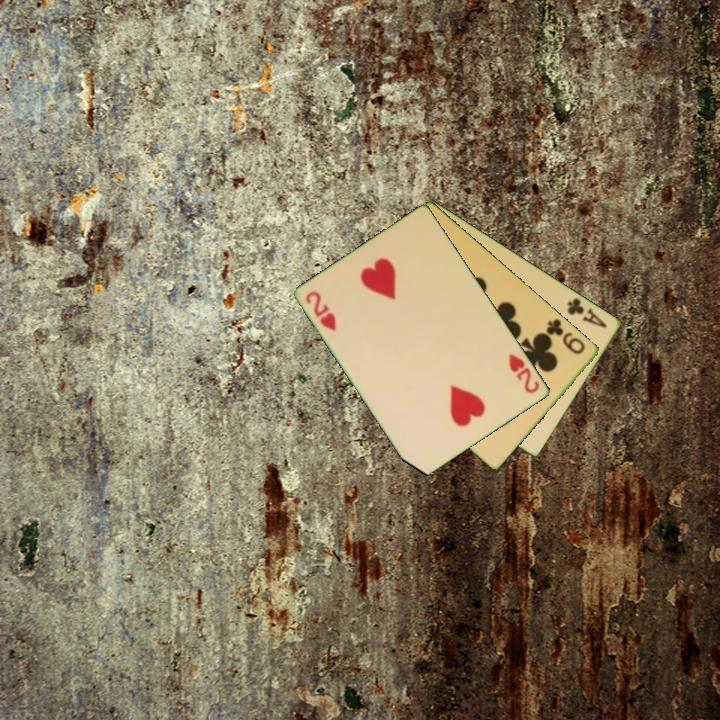2h: (302, 287, 340, 335), (506, 350, 543, 397)
9c: (543, 315, 588, 357)
Ac: (564, 294, 610, 331)
